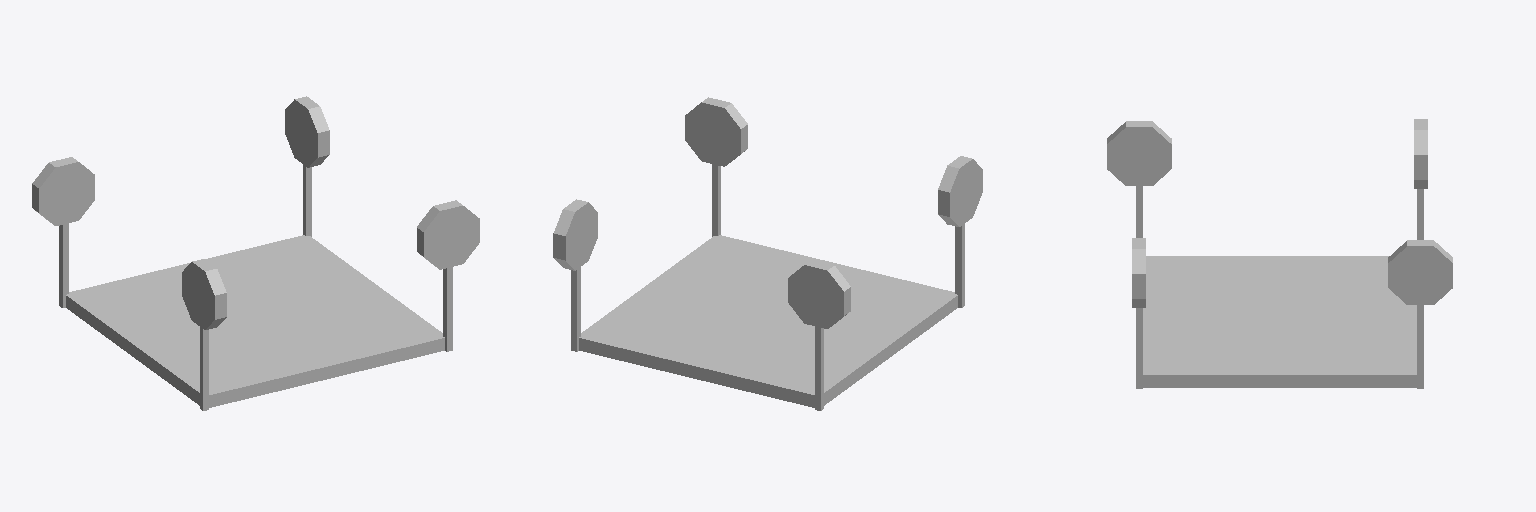
File: type1_4WayStop.obj
The picture shows the model from 3 angles: view 1: azimuth 30°, elevation 25°; view 2: azimuth 150°, elevation 25°; view 3: azimuth 270°, elevation 25°; orthographic projection.
Parts seen in each view (by area): view 1: type1_4WayStop_Cube.002, stopsign1.001_Circle.002, stopsign1_Circle.002, stopsign3_Circle.002, stopsign2_Circle.002; view 2: type1_4WayStop_Cube.002, stopsign1_Circle.002, stopsign1.001_Circle.002, stopsign2_Circle.002, stopsign3_Circle.002; view 3: type1_4WayStop_Cube.002, stopsign2_Circle.002, stopsign3_Circle.002, stopsign1.001_Circle.002, stopsign1_Circle.002.
Boxes of the visible parts, x1=… form: type1_4WayStop_Cube.002: x1=66, y1=235, x2=444, y2=407; stopsign1.001_Circle.002: x1=417, y1=200, x2=479, y2=351; stopsign1_Circle.002: x1=32, y1=157, x2=94, y2=307; stopsign3_Circle.002: x1=182, y1=259, x2=226, y2=410; stopsign2_Circle.002: x1=285, y1=96, x2=329, y2=236; type1_4WayStop_Cube.002: x1=579, y1=235, x2=957, y2=407; stopsign1_Circle.002: x1=788, y1=260, x2=850, y2=410; stopsign1.001_Circle.002: x1=685, y1=97, x2=747, y2=236; stopsign2_Circle.002: x1=553, y1=199, x2=597, y2=351; stopsign3_Circle.002: x1=938, y1=156, x2=982, y2=307; type1_4WayStop_Cube.002: x1=1143, y1=256, x2=1416, y2=387; stopsign2_Circle.002: x1=1388, y1=240, x2=1452, y2=388; stopsign3_Circle.002: x1=1107, y1=121, x2=1171, y2=237; stopsign1.001_Circle.002: x1=1132, y1=238, x2=1145, y2=388; stopsign1_Circle.002: x1=1414, y1=119, x2=1427, y2=239.
Size of the model in its own units: 2.46 by 1.13 by 2.46.